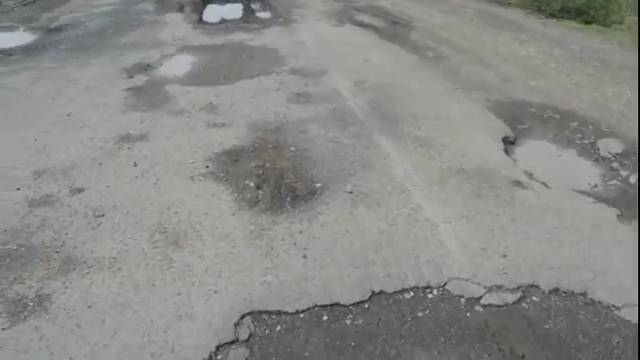pothole: (435, 50, 640, 156), (206, 126, 314, 224), (393, 104, 472, 216)
